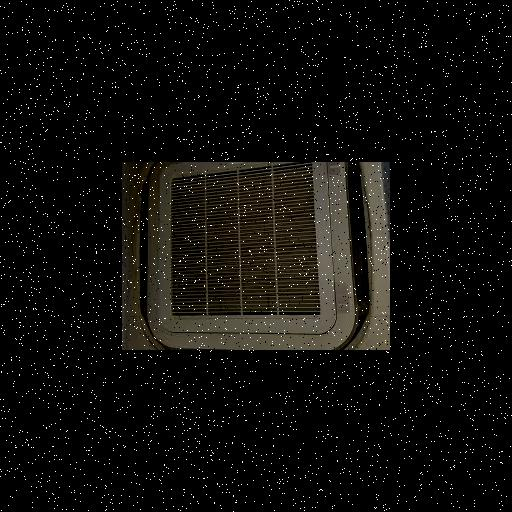4-way-ac: (135, 162, 390, 350)
